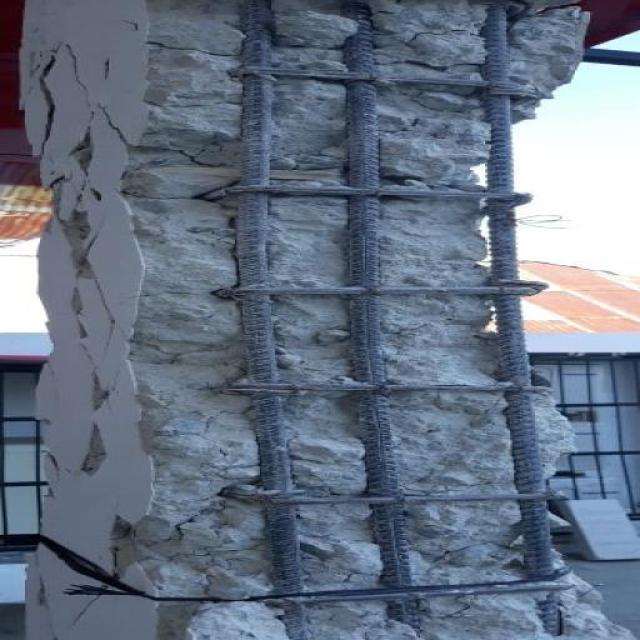D0w0: (118, 0, 630, 639)
